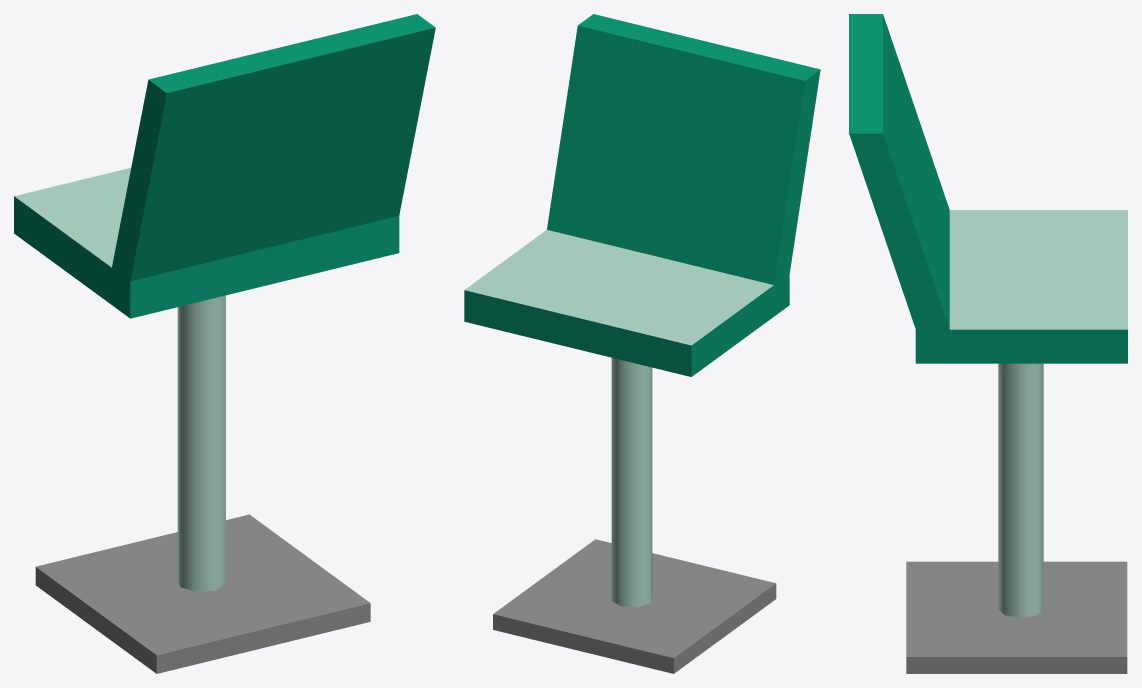
File: Kitchen_Bar_Chair2_Green.fbx
3 views of the same model, side by side, from view 1: azimuth 30°, elevation 25°; view 2: azimuth 150°, elevation 25°; view 3: azimuth 270°, elevation 25° (orthographic). The views are drawn at different scales.
Parts seen in each view (by area): view 1: Kitchen_Bar_Chair2_Green; view 2: Kitchen_Bar_Chair2_Green; view 3: Kitchen_Bar_Chair2_Green.
Boxes of the visible parts, bbox=[...] form: Kitchen_Bar_Chair2_Green: bbox=[14, 14, 435, 673]; Kitchen_Bar_Chair2_Green: bbox=[464, 14, 820, 673]; Kitchen_Bar_Chair2_Green: bbox=[849, 14, 1127, 673].
Bounding box in the file's own units: 41.57 × 89.97 × 40.94.
